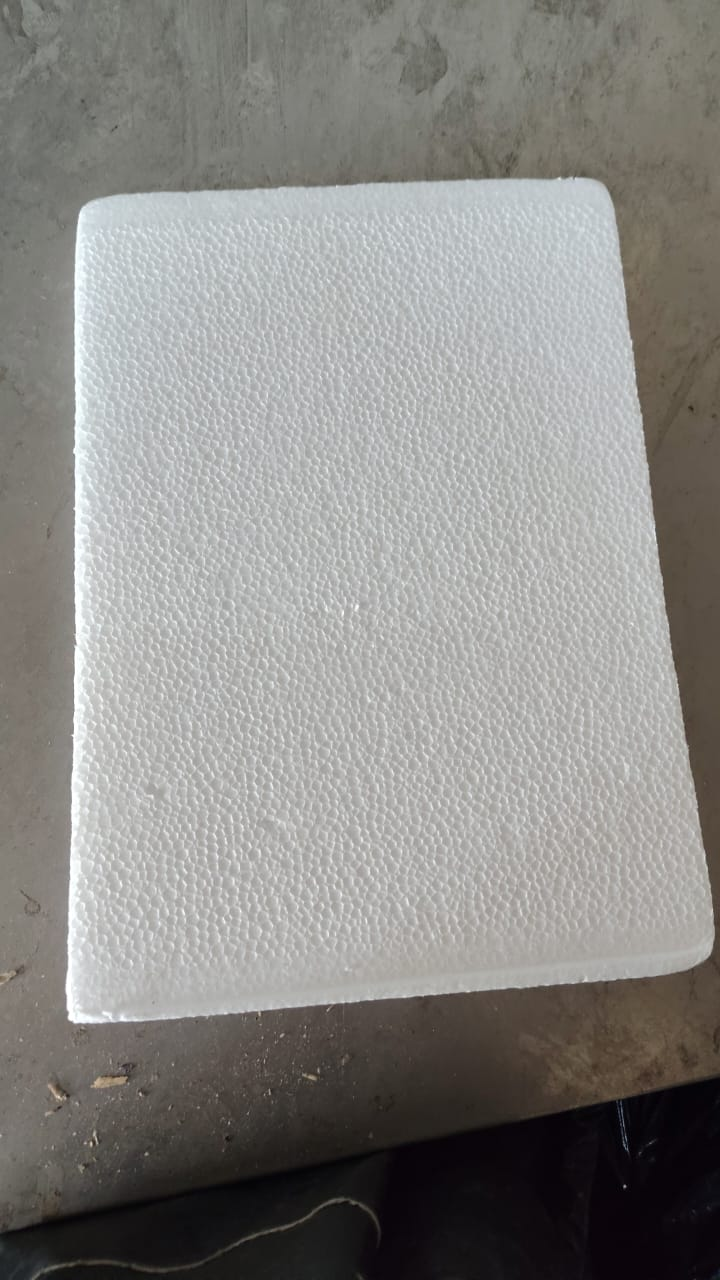Ordinario: (68, 180, 718, 1026)
